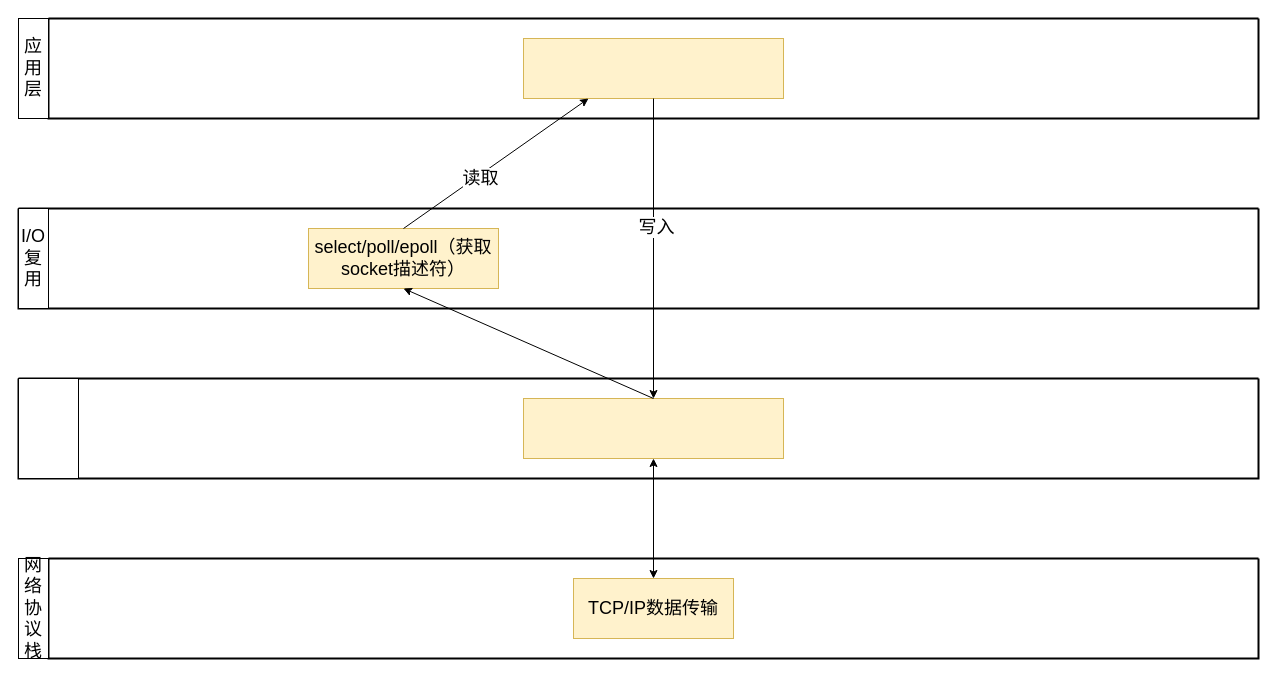
The diagram is 1276 pixels wide and 679 high, and some of its shapes have lost their labels. Here are the shapes that lost their labels. From the top down, the box of each, then its label:
(522, 38, 784, 98): 回射处理，数据报文封装
(18, 378, 78, 478): socket层
(522, 398, 784, 458): socket管理
